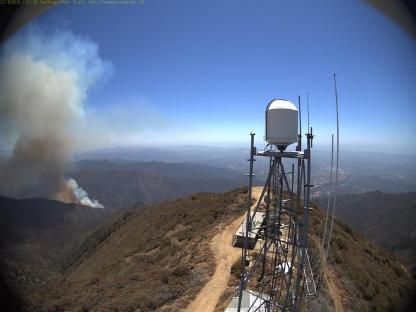smoke: (1, 27, 104, 210)
